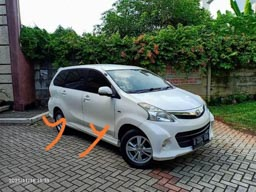plat: (194, 131, 207, 148)
